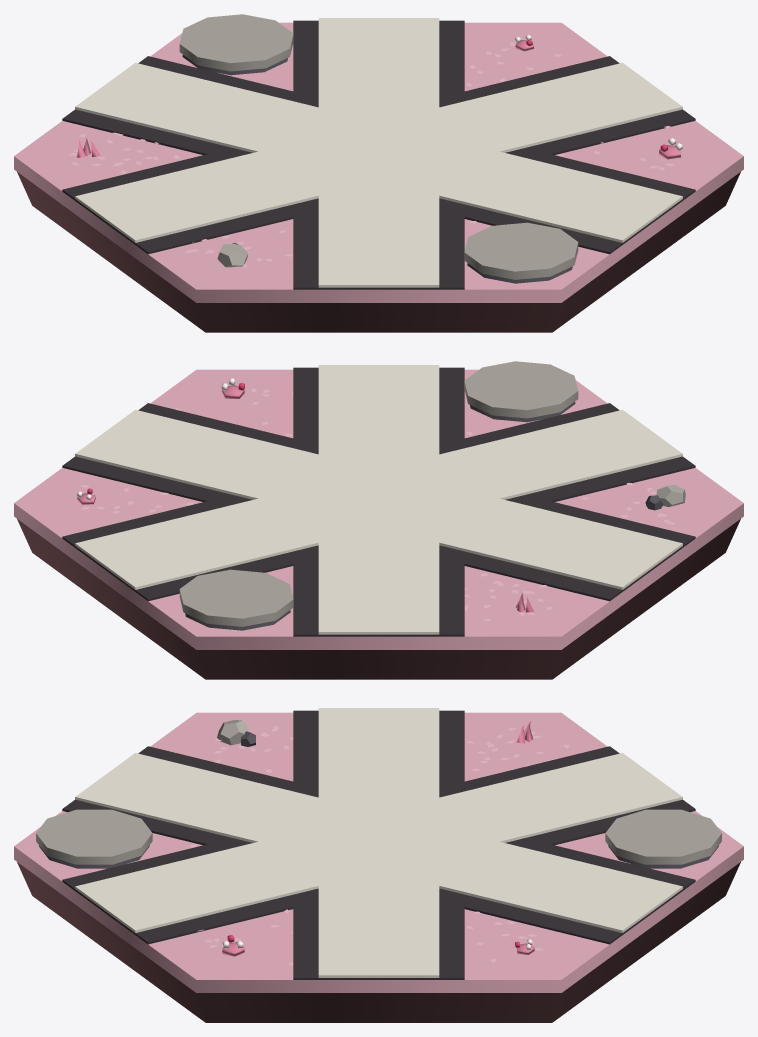
The model's file is tile_fullCross.glb.
3 views of the same model, one above another, from view 1: azimuth 30°, elevation 25°; view 2: azimuth 150°, elevation 25°; view 3: azimuth 270°, elevation 25° (orthographic).
Visible parts, largest first — view 1: road, ground, ground_soil, tower_slot_2_plate, tower_slot_1_plate, road_surface_hub, deco_petals, deco_stone_2_a; view 2: road, ground, ground_soil, tower_slot_1_plate, tower_slot_2_plate, road_surface_hub, deco_petals; view 3: road, ground, ground_soil, tower_slot_1_plate, tower_slot_2_plate, road_surface_hub, deco_petals, deco_stone_2_a.
Boxes of the visible parts, <box> form: road: <box>62,18,695,289</box>; ground: <box>14,22,743,302</box>; ground_soil: <box>17,172,740,332</box>; tower_slot_2_plate: <box>464,222,578,279</box>; tower_slot_1_plate: <box>179,14,293,71</box>; road_surface_hub: <box>319,127,422,176</box>; deco_petals: <box>69,42,673,267</box>; deco_stone_2_a: <box>217,243,248,267</box>; road: <box>62,365,695,636</box>; ground: <box>14,369,743,649</box>; ground_soil: <box>17,519,740,679</box>; tower_slot_1_plate: <box>179,569,293,626</box>; tower_slot_2_plate: <box>464,361,578,418</box>; road_surface_hub: <box>334,474,436,523</box>; deco_petals: <box>81,388,675,621</box>; road: <box>62,708,695,979</box>; ground: <box>14,712,743,992</box>; ground_soil: <box>17,862,740,1022</box>; tower_slot_1_plate: <box>605,809,721,864</box>; tower_slot_2_plate: <box>36,809,152,864</box>; road_surface_hub: <box>321,816,437,866</box>; deco_petals: <box>190,725,569,965</box>; deco_stone_2_a: <box>217,720,248,745</box>.
Bounding box in the file's own units: 1.73 × 0.203 × 2.
